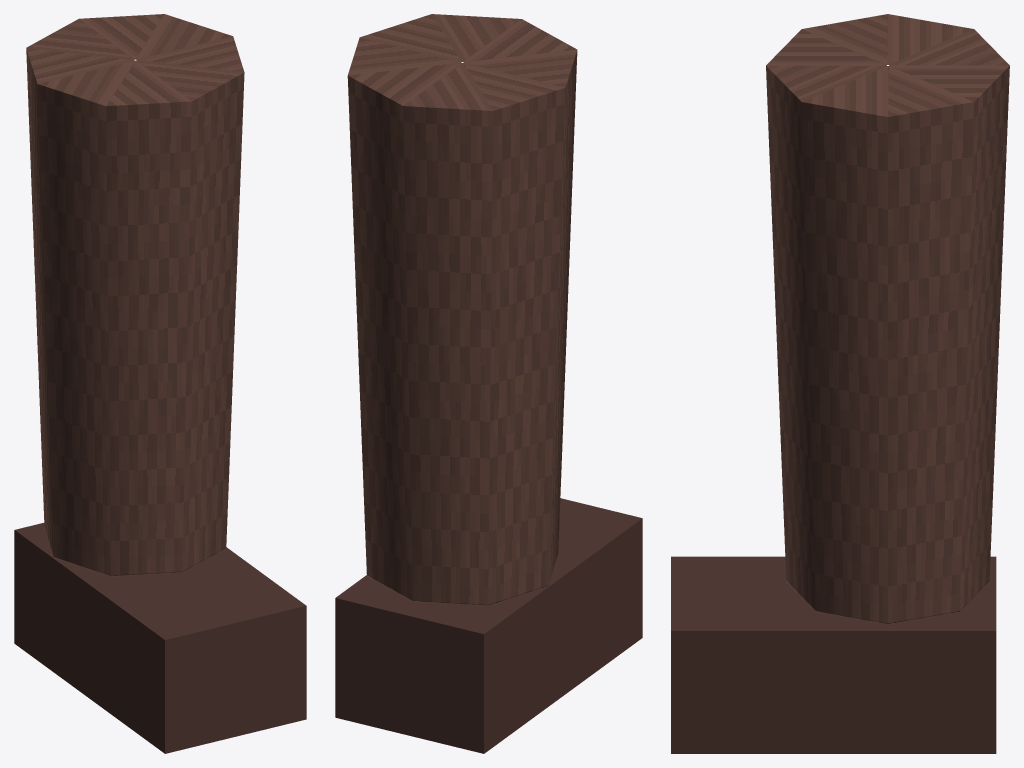
File: keeper-leg.gltf
The picture shows the model from 3 angles, left to right: view 1: azimuth 30°, elevation 25°; view 2: azimuth 150°, elevation 25°; view 3: azimuth 270°, elevation 25°; orthographic projection. The views are drawn at different scales.
Bounding box in the file's own units: 0.18 × 0.53 × 0.25.
Materials: 2 (1 with a texture image).
